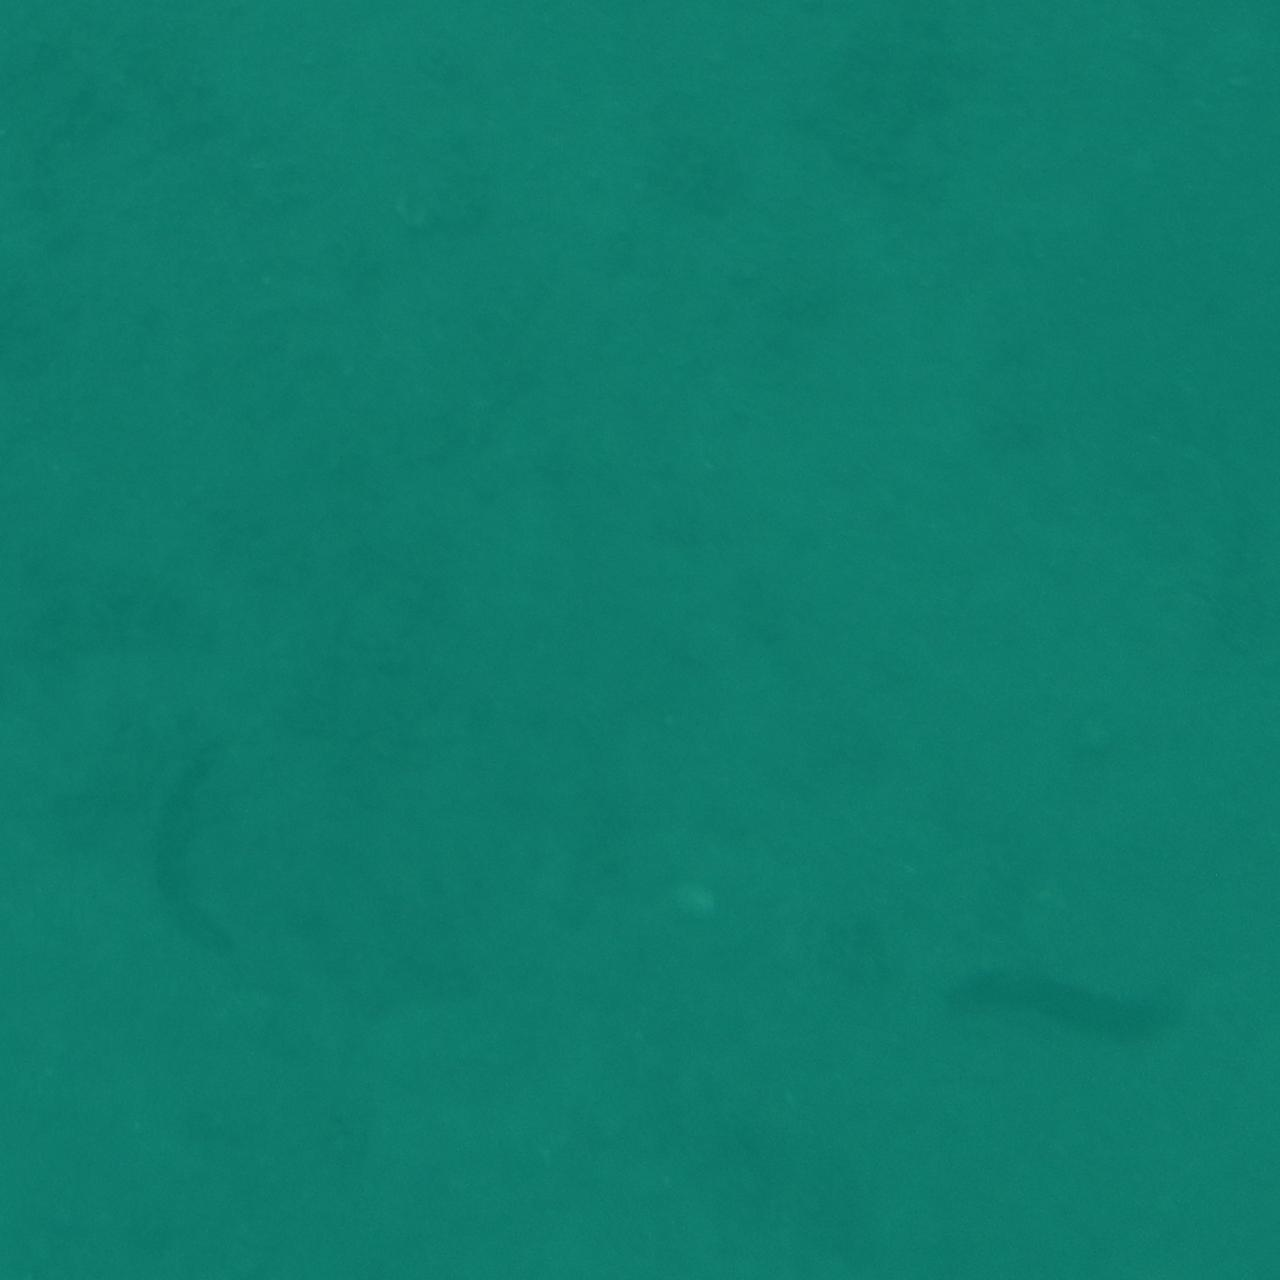Holothuria tubulosa: (130, 710, 263, 1000), (942, 968, 1226, 1056)
